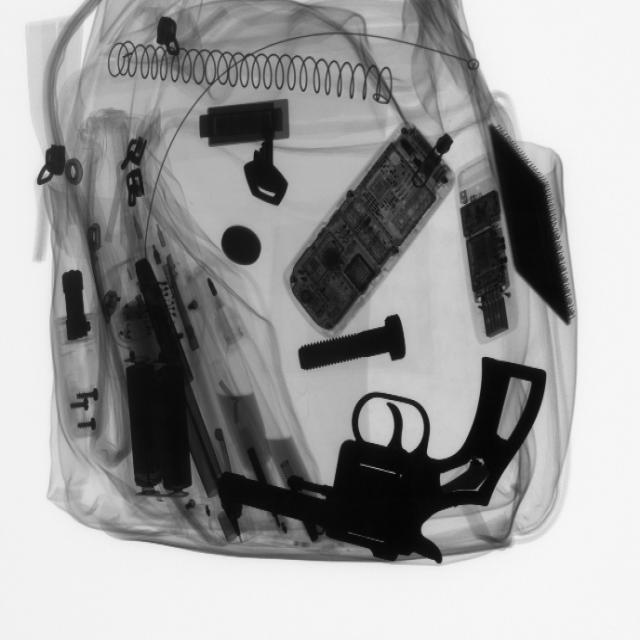GUN: (240, 348, 556, 567)
SCREW: (64, 379, 108, 448)
